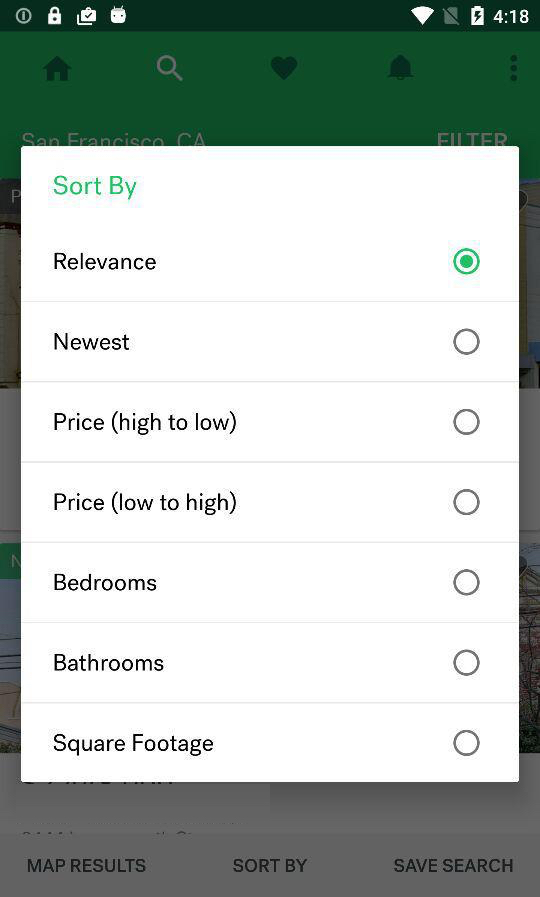CheckedTextView: (54, 248, 481, 276), (54, 328, 481, 356), (54, 409, 481, 437), (54, 489, 481, 517), (54, 569, 481, 597), (54, 649, 481, 677), (54, 730, 481, 758)
Icon: (155, 55, 184, 83), (42, 56, 72, 82), (270, 56, 298, 81), (388, 56, 414, 82), (509, 55, 518, 82)
Modal: (22, 146, 519, 783)
Text: (54, 410, 238, 437), (54, 490, 238, 517), (54, 733, 215, 758), (54, 175, 138, 201), (54, 653, 165, 672), (54, 573, 158, 592), (54, 253, 157, 272), (395, 858, 514, 873), (29, 859, 147, 873), (54, 333, 131, 351), (234, 859, 308, 873)
UpperTaskBar: (1, 1, 540, 33)
